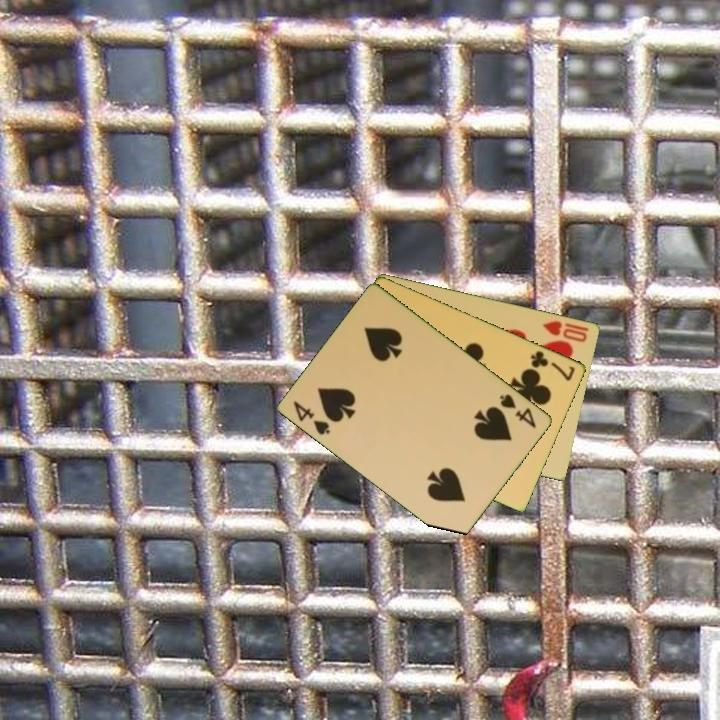10h: (540, 317, 590, 345)
4s: (496, 390, 540, 431), (290, 397, 333, 438)
7c: (527, 347, 578, 384)
